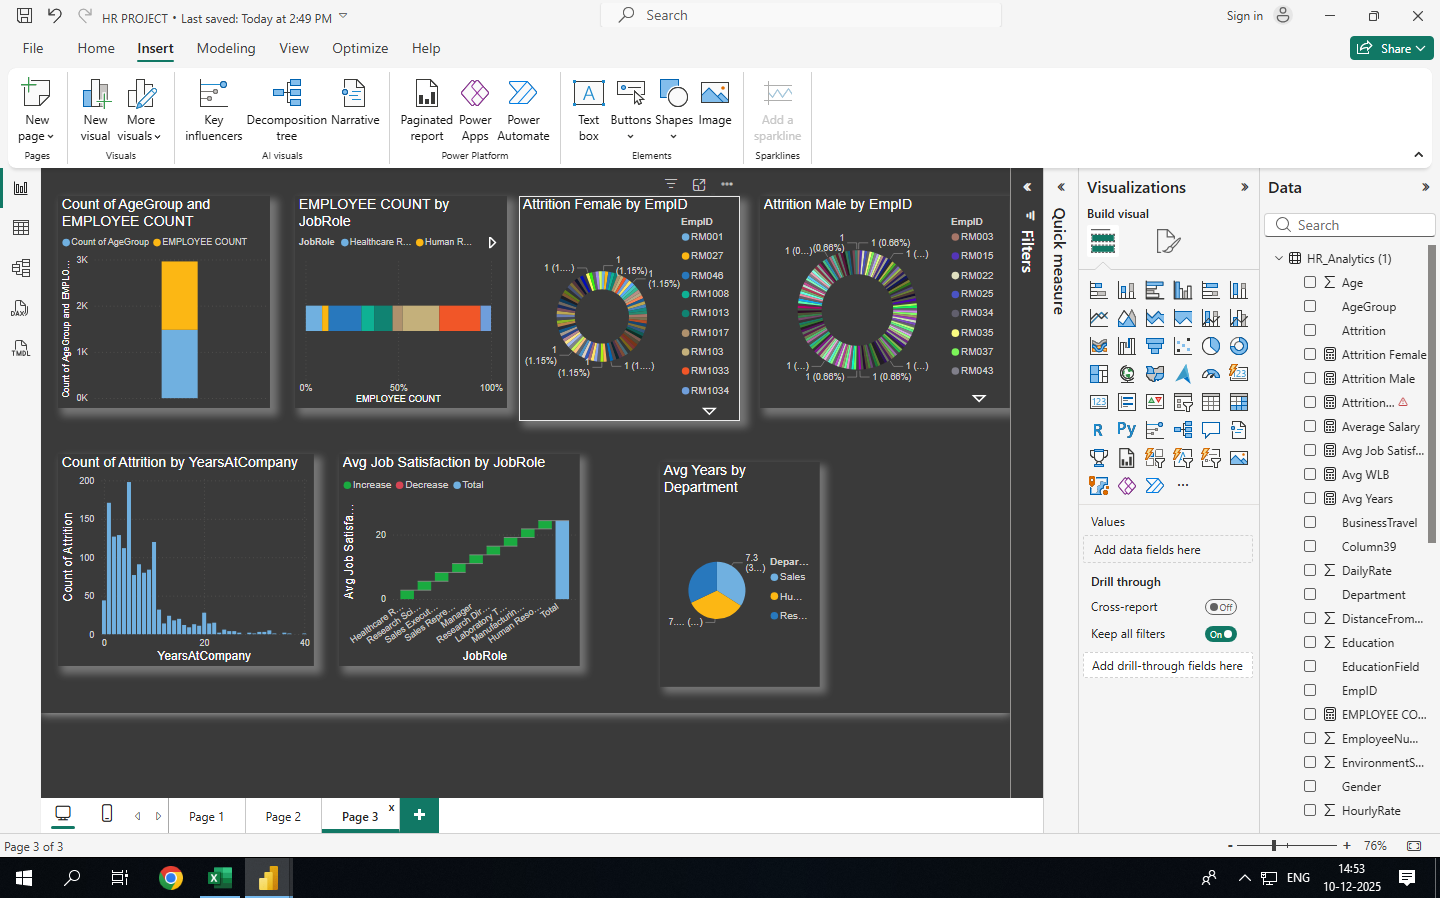

This screenshot's page, from the dashboard's own definition file:
{"tool":"powerbi","page":{"name":"Page 3","canvas":[1280,720],"ordinal":2},"visuals":[{"type":"hundredPercentStackedBarChart","fields":{"Series":["HR_Analytics (1).JobRole"],"Y":["HR_Analytics (1).EMPLOYEE COUNT"]},"box":[335.5,37,280,280],"z":1000},{"type":"columnChart","fields":{"Y":["CountNonNull(HR_Analytics (1).AgeGroup)","HR_Analytics (1).EMPLOYEE COUNT"]},"box":[22.5,37,280,280],"z":2000},{"type":"clusteredColumnChart","fields":{"Category":["HR_Analytics (1).YearsAtCompany"],"Y":["CountNonNull(HR_Analytics (1).Attrition)"]},"box":[22.5,377.8,338.2,280],"z":3000},{"type":"waterfallChart","fields":{"Category":["HR_Analytics (1).JobRole"],"Y":["HR_Analytics (1).Avg Job Satisfaction"]},"box":[393.6,377.8,318.3,280],"z":5000},{"type":"donutChart","fields":{"Y":["HR_Analytics (1).Attrition Female"],"Category":["HR_Analytics (1).EmpID"]},"box":[631.4,37,291.9,297.2],"z":5002},{"type":"donutChart","fields":{"Y":["HR_Analytics (1).Attrition Male"],"Series":["HR_Analytics (1).EmpID"]},"box":[949.8,37,330.2,280],"z":5003},{"type":"pieChart","fields":{"Category":["HR_Analytics (1).Department"],"Y":["HR_Analytics (1).Avg Years"]},"box":[817.7,388.4,211.4,297.2],"z":5004}]}

Visuals, with their boxes on the page's 1280x720 design canvas (x1, y1, x2, y2). These are canvas units, not pixel positions in the 1440x898 screenshot, which may show the page scaled, cropped or inside an application window:
hundredPercentStackedBarChart - HR_Analytics (1).JobRole x HR_Analytics (1).EMPLOYEE COUNT: 336:37:616:317
columnChart - CountNonNull(HR_Analytics (1).AgeGroup) x HR_Analytics (1).EMPLOYEE COUNT: 22:37:302:317
clusteredColumnChart - HR_Analytics (1).YearsAtCompany x CountNonNull(HR_Analytics (1).Attrition): 22:378:361:658
waterfallChart - HR_Analytics (1).JobRole x HR_Analytics (1).Avg Job Satisfaction: 394:378:712:658
donutChart - HR_Analytics (1).Attrition Female x HR_Analytics (1).EmpID: 631:37:923:334
donutChart - HR_Analytics (1).Attrition Male x HR_Analytics (1).EmpID: 950:37:1280:317
pieChart - HR_Analytics (1).Department x HR_Analytics (1).Avg Years: 818:388:1029:686
